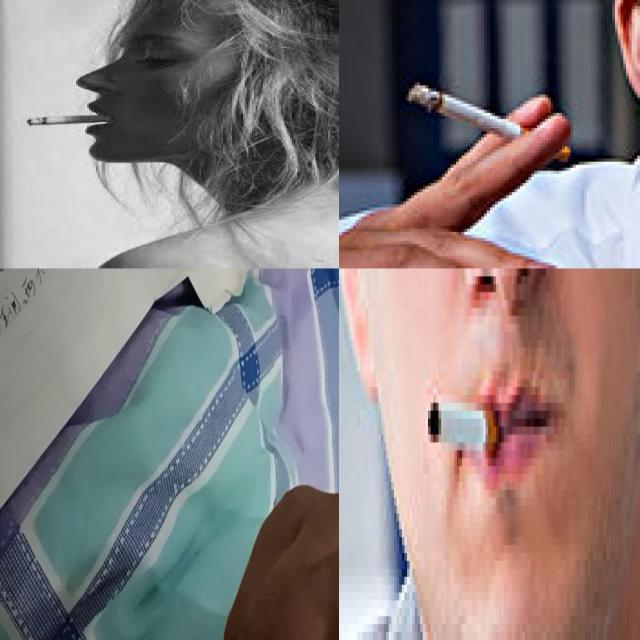smoke: (403, 76, 523, 138), (423, 387, 499, 442), (27, 114, 114, 126)
